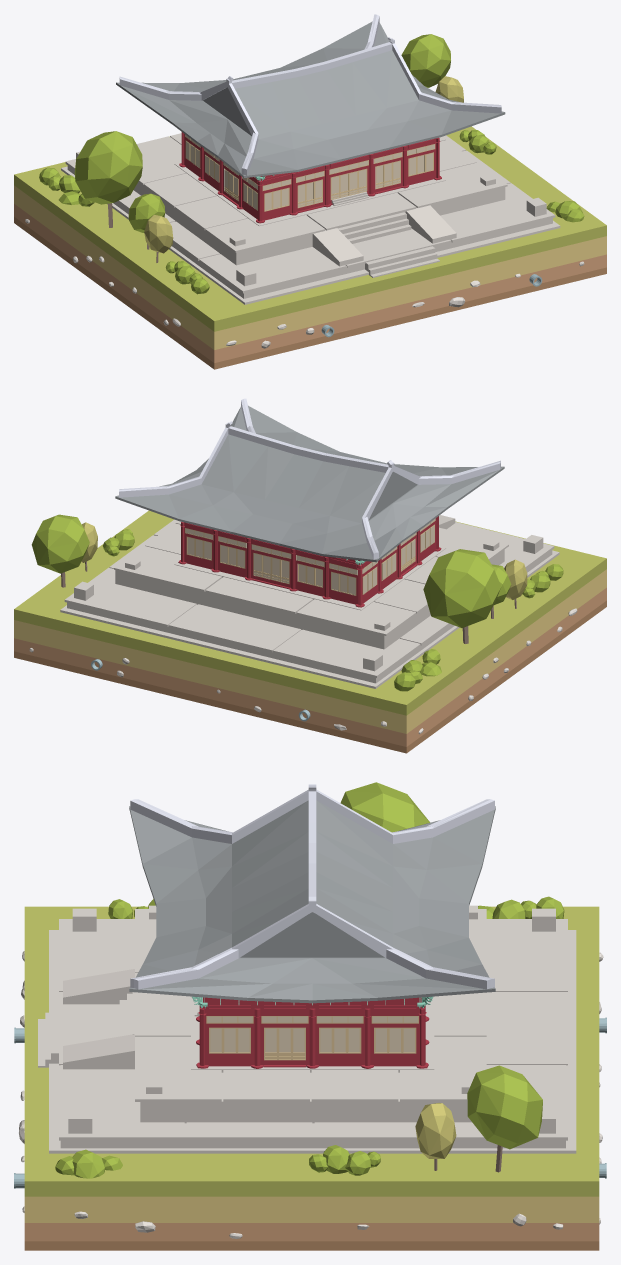
Rendered from history.gltf.
3 renders of one model, top to bottom at view 1: azimuth 30°, elevation 25°; view 2: azimuth 150°, elevation 25°; view 3: azimuth 270°, elevation 25°, orthographic. The views are drawn at different scales.
Visible parts, largest first — view 1: Building-Roof, Floor-Tree_1, Floor-Ground_2, Floor-Ground, Building-Building, Building-tower, Floor-Ground_1, Tree_326-Trees, Cube2, Cube, Cube14, Cube3 (+27 smaller); view 2: Building-Roof, Floor-Tree_1, Floor-Ground_2, Floor-Ground, Building-Building, Building-tower, Cube, Tree_326-Trees, Floor-Ground_1, Cube9, Cube13, Cube17 (+20 smaller); view 3: Building-Roof, Floor-Tree_1, Floor-Ground_2, Floor-Ground, Building-tower, Building-Building, Cube, Cube3, Cube14, Cube13, Floor-Ground_1, Cube9 (+31 smaller).
Part boxes in pixels (x1,y1,x2,y2): Building-Roof: (116,21,505,177); Floor-Tree_1: (14,126,606,331); Floor-Ground_2: (14,185,606,349); Floor-Ground: (14,204,606,362); Building-Building: (179,132,441,223); Building-tower: (119,14,501,175); Floor-Ground_1: (14,217,606,369); Tree_326-Trees: (74,131,142,204); Cube2: (199,247,345,293); Cube: (134,182,505,265); Cube14: (440,183,555,242); Cube3: (61,166,560,304); Building-Roof: (115,405,504,562); Floor-Tree_1: (14,510,606,715); Floor-Ground_2: (14,569,606,733); Floor-Ground: (14,587,606,746); Building-Building: (178,516,441,607); Building-tower: (119,398,500,559); Cube: (115,549,504,649); Tree_326-Trees: (423,549,501,627); Floor-Ground_1: (14,600,606,753); Cube9: (274,629,420,677); Cube13: (169,604,301,652); Cube17: (64,567,196,626); Building-Roof: (129,800,495,1003); Floor-Tree_1: (24,906,599,1196); Floor-Ground_2: (24,1196,599,1222); Floor-Ground: (24,1223,599,1241); Building-tower: (130,784,494,989); Building-Building: (196,997,429,1068); Cube: (140,1072,471,1123); Cube3: (49,930,576,1153); Cube14: (59,1065,184,1140); Cube13: (486,992,567,1065); Floor-Ground_1: (24,1241,599,1250); Cube9: (486,919,567,991).
Bounding box in the file's own units: 14.54 × 6.39 × 12.57.
